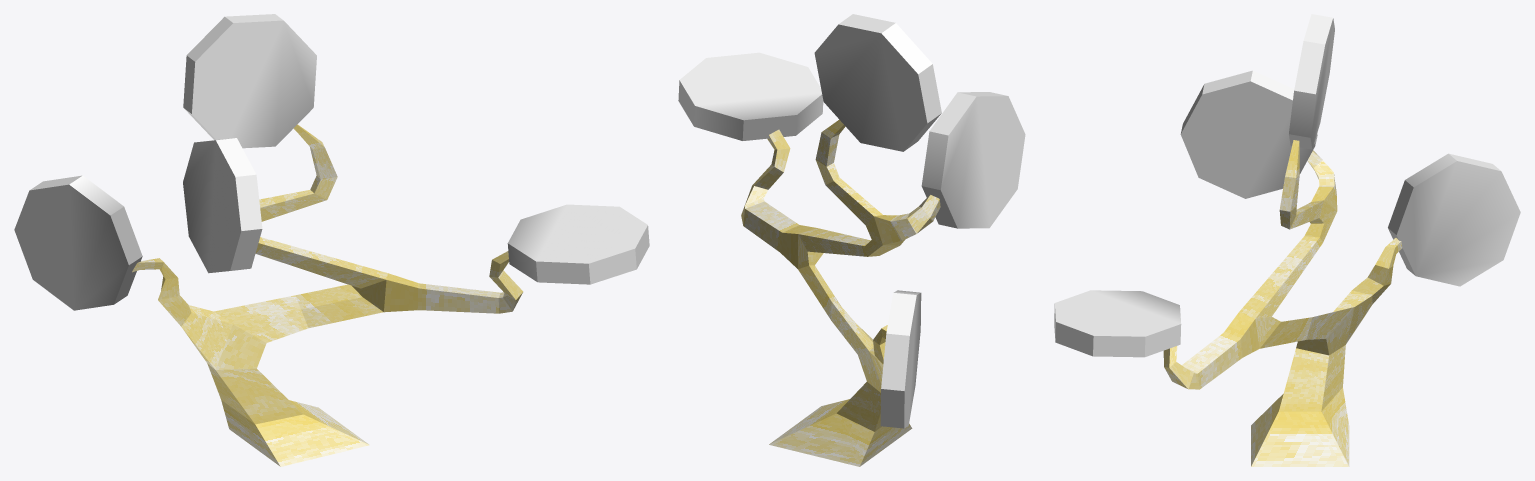
File: SM_LolipopTree.fbx
3 renders of one model, left to right at view 1: azimuth 30°, elevation 25°; view 2: azimuth 150°, elevation 25°; view 3: azimuth 270°, elevation 25°, orthographic. The views are drawn at different scales.
Parts seen in each view (by area): view 1: LoliPopTree; view 2: LoliPopTree; view 3: LoliPopTree.
Part boxes in pixels (x1,y1,x2,y2): LoliPopTree: (14,14,649,466); LoliPopTree: (678,14,1025,466); LoliPopTree: (1054,14,1520,466).
Size of the model in its own units: 1498 by 1463 by 1530.
